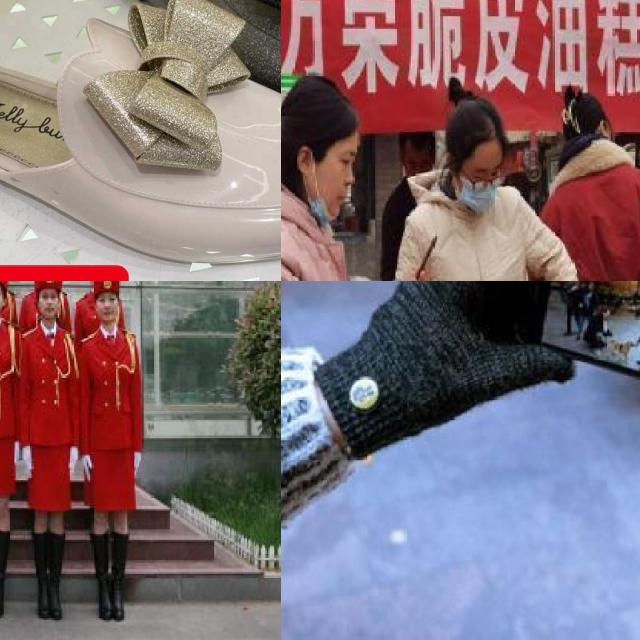Sandals: (0, 0, 281, 281), (58, 0, 281, 139)
boots: (102, 532, 132, 620), (44, 528, 70, 620), (27, 528, 50, 623), (87, 531, 111, 618), (0, 527, 13, 620)
face_mask: (459, 148, 500, 216)
face_nomask: (300, 137, 374, 221), (40, 288, 60, 318), (0, 283, 6, 318)
glasses: (470, 170, 506, 198)
hand_glove: (355, 281, 586, 422), (21, 444, 33, 482), (68, 443, 80, 477), (81, 456, 93, 483), (132, 451, 142, 475), (13, 443, 21, 468)
hand_noglove: (390, 268, 426, 281)
head_nohelmet: (281, 75, 358, 146), (451, 90, 509, 156), (93, 281, 119, 304), (35, 281, 61, 297)
person: (397, 84, 584, 281), (71, 281, 154, 627), (516, 87, 640, 281), (281, 72, 383, 281), (19, 281, 73, 629)
